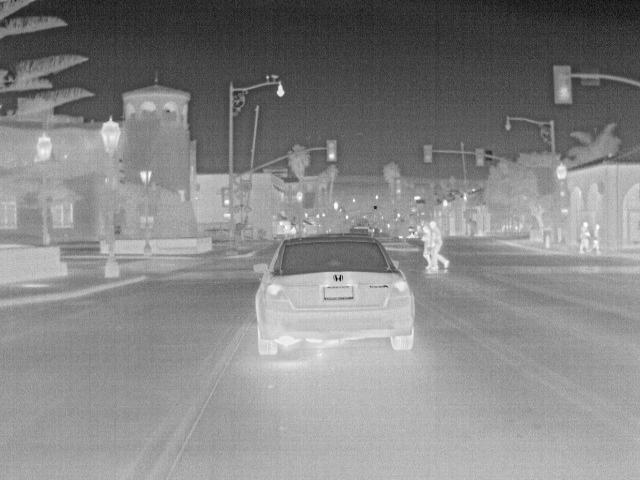car: (253, 230, 419, 360)
person: (427, 221, 451, 276), (576, 222, 593, 258), (421, 225, 433, 276), (589, 222, 604, 255)
